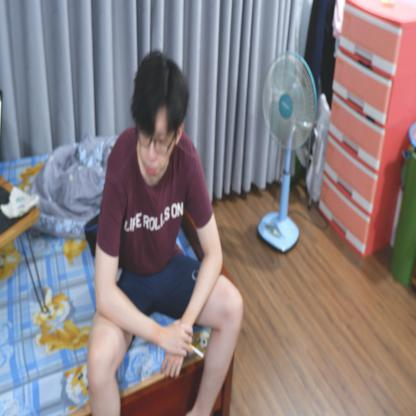cigarette: (189, 342, 205, 358)
person: (87, 59, 248, 415)
